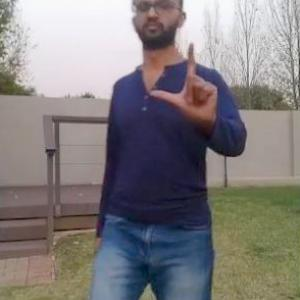land_hand: (145, 35, 219, 128)
